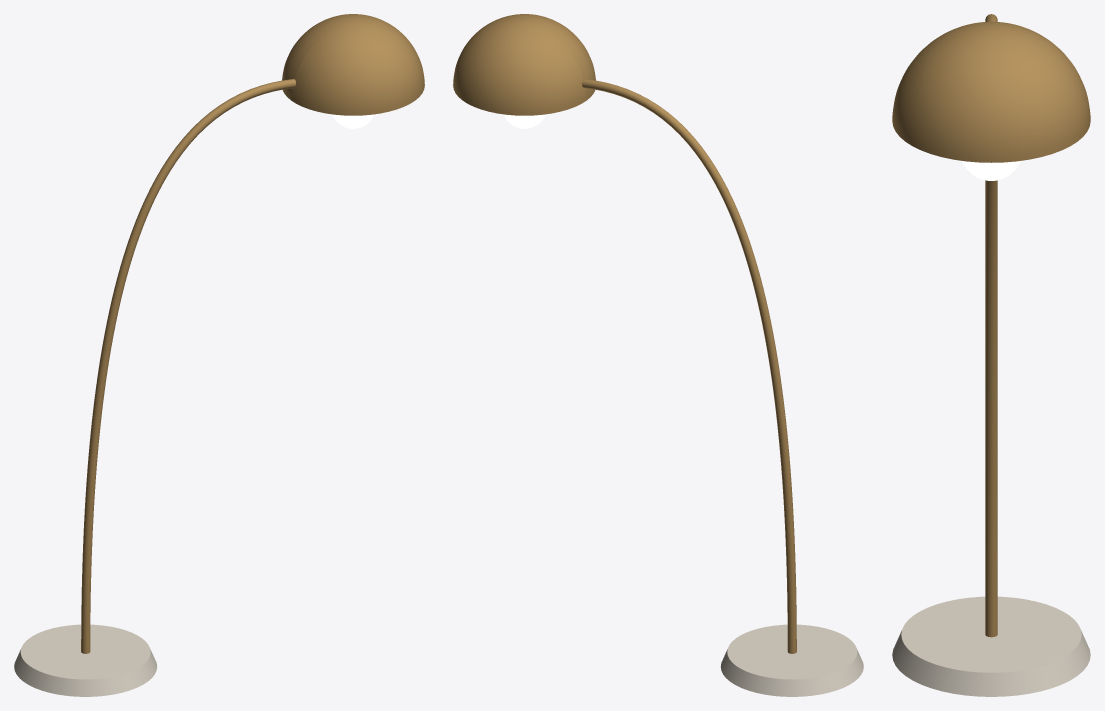
Rendered from halo-lamp.glb.
The picture shows the model from 3 angles, left to right: view 1: azimuth 30°, elevation 25°; view 2: azimuth 150°, elevation 25°; view 3: azimuth 270°, elevation 25°; orthographic projection. The views are drawn at different scales.
Parts seen in each view (by area): view 1: shade, base, arc; view 2: shade, base, arc; view 3: shade, base, arc, bulb.
Part boxes in pixels (x1,y1,x2,y2): shade: (282,14,424,115); base: (14,624,157,696); arc: (81,79,295,653); shade: (453,14,595,115); base: (720,624,863,696); arc: (582,79,796,653); shade: (892,21,1090,162); base: (892,596,1090,696); arc: (985,14,997,637); bulb: (962,161,1020,180).
Size of the model in its own units: 1.39 by 1.97 by 0.44.
